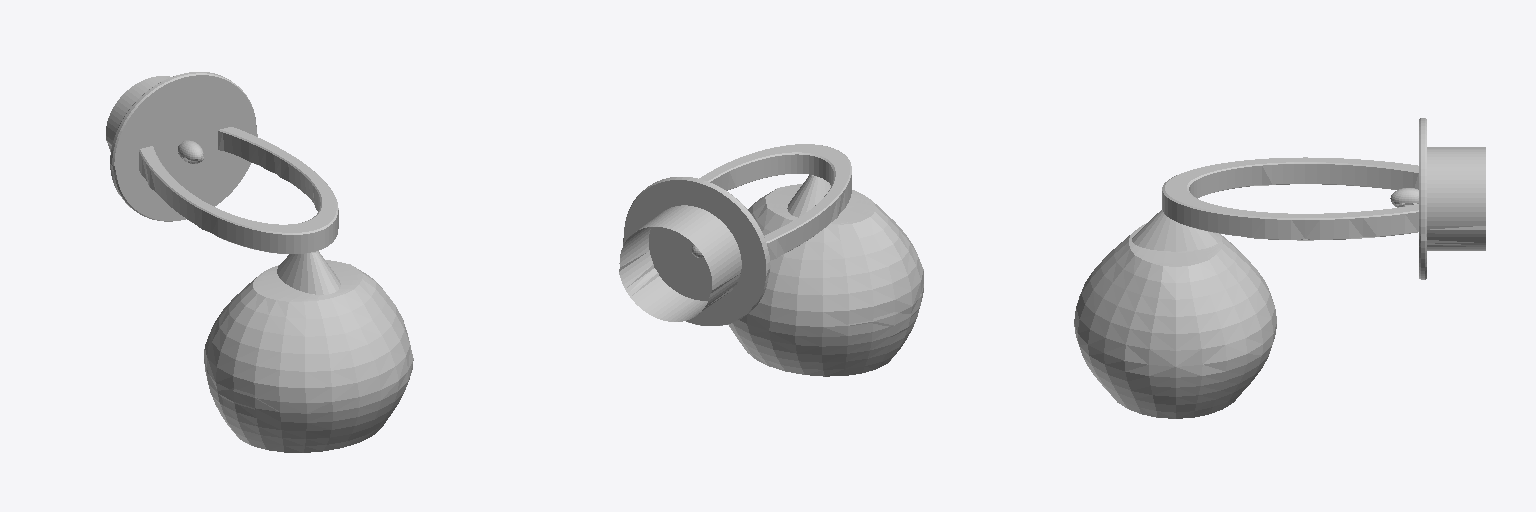
The model's file is lampada.obj.
The picture shows the model from 3 angles: view 1: azimuth 30°, elevation 25°; view 2: azimuth 150°, elevation 25°; view 3: azimuth 270°, elevation 25°; orthographic projection.
Parts seen in each view (by area): view 1: lampada; view 2: lampada; view 3: lampada.
Boxes of the visible parts, <box> form: lampada: <box>106,72,413,452</box>; lampada: <box>619,144,923,376</box>; lampada: <box>1074,118,1485,418</box>.
Bounding box in the file's own units: 6.73 × 8.99 × 12.98.